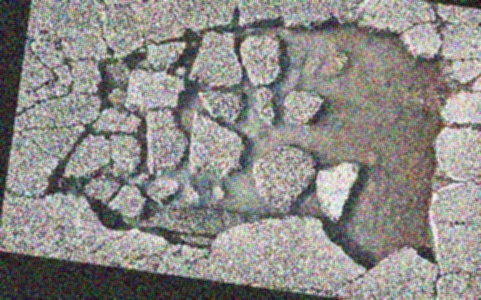pothole: (29, 0, 475, 287)
